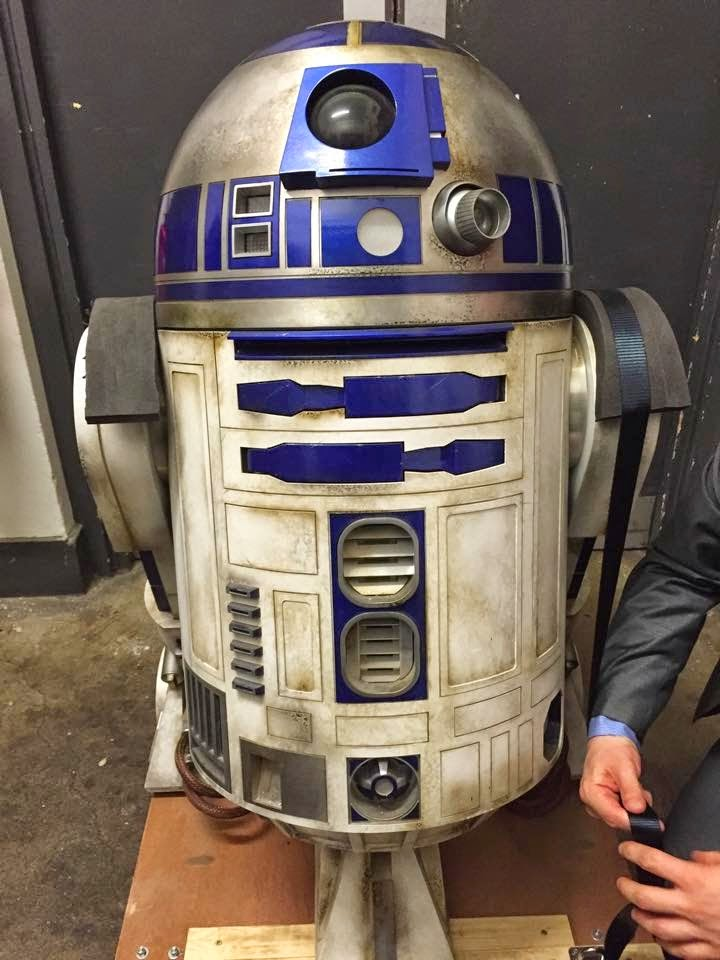r2d2: (70, 19, 664, 960)
